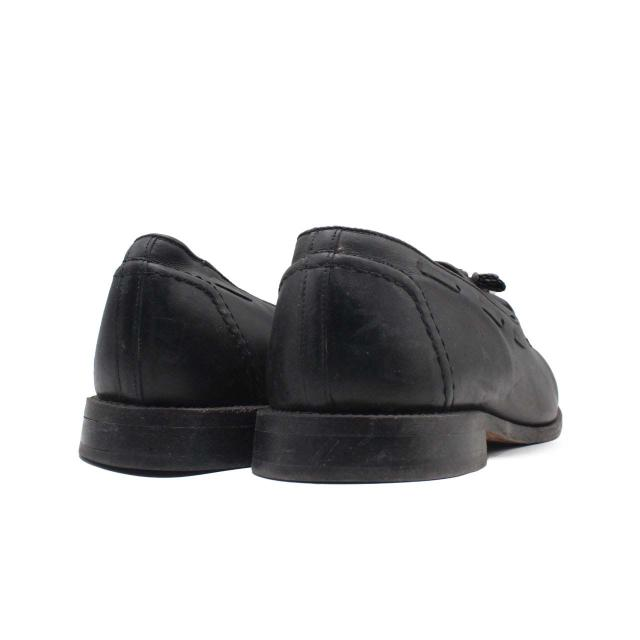heel: (274, 230, 461, 415), (95, 233, 257, 413)
midsole: (245, 406, 561, 486), (80, 394, 267, 475)
